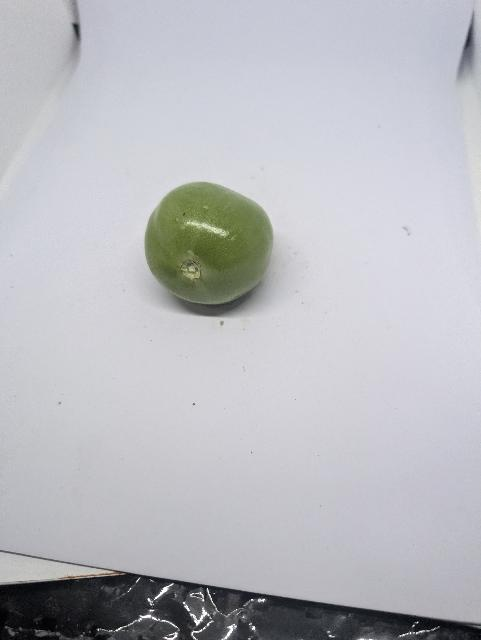green: (141, 179, 278, 308)
